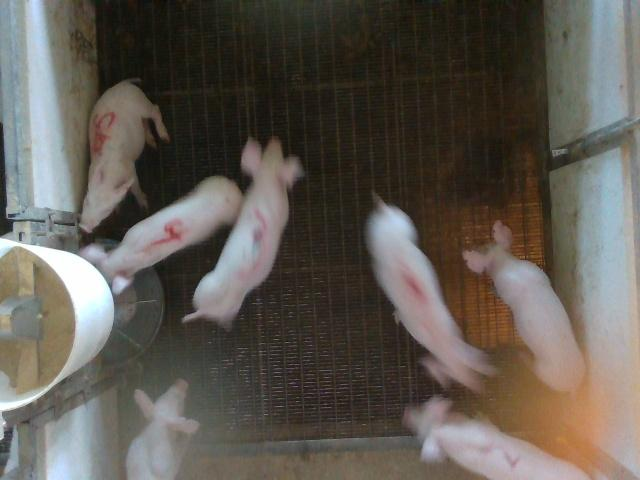pig-1: (366, 195, 494, 391)
pig-2: (405, 396, 590, 479)
pig-3: (182, 136, 304, 328)
pig-4: (79, 176, 242, 294)
pig-5: (80, 79, 170, 232)
